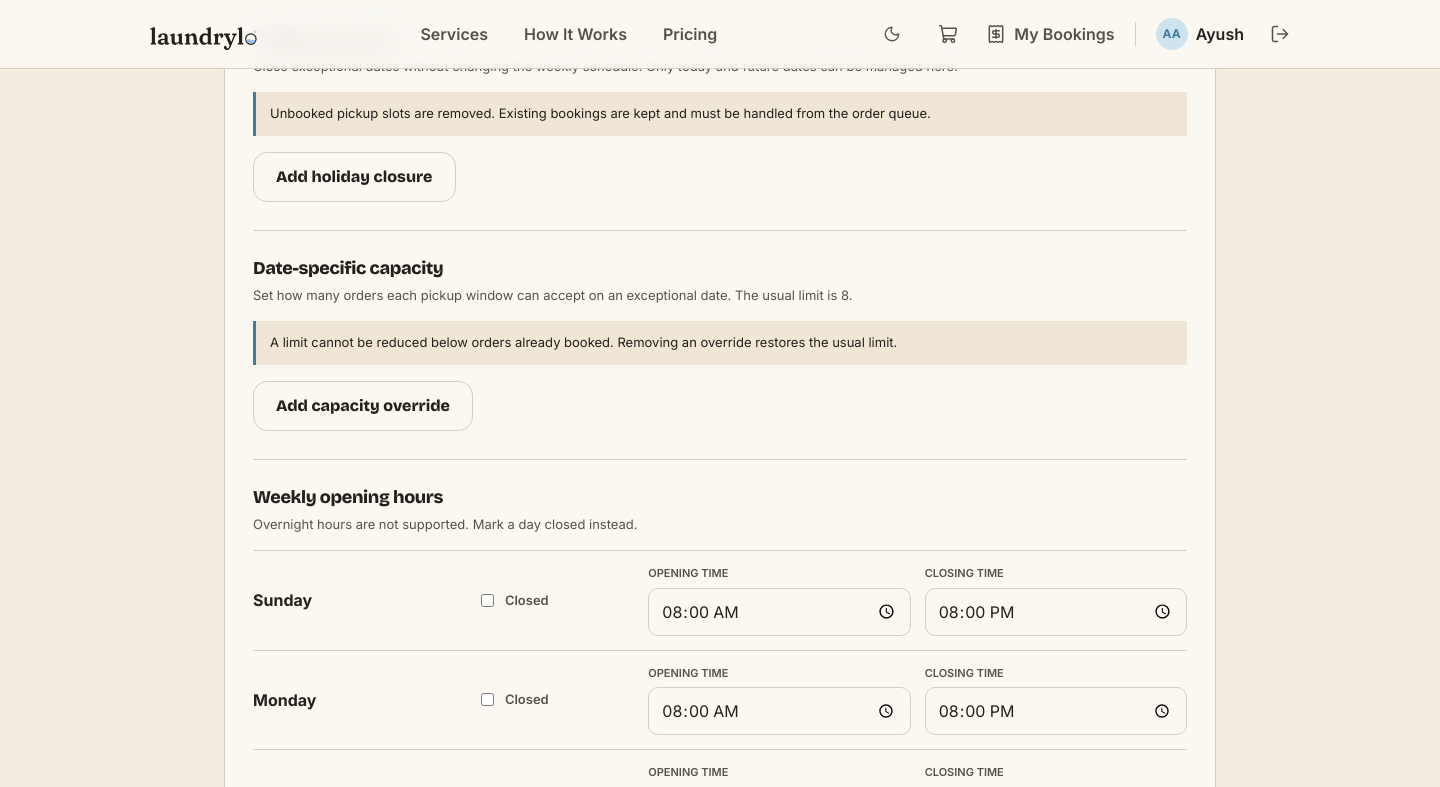
Test case: laundry-partner settings › lets an owner remove a date-specific capacity before saving
(page scrolled)
Click the button "Add capacity override" at (363, 406), box [253, 380, 473, 430]
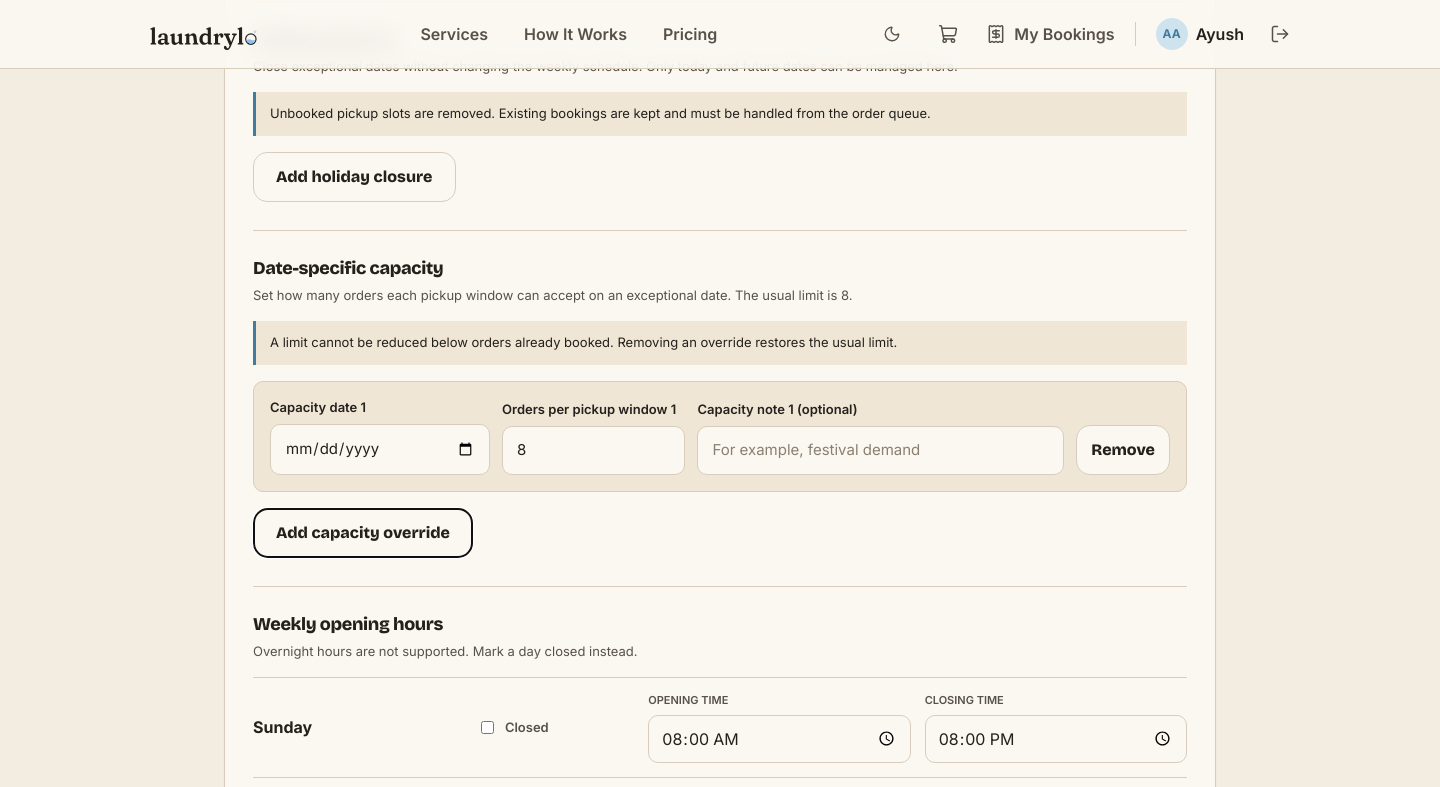
Type "2099-12-26" into the date field labelled "Capacity date 1" at (380, 449), box [270, 424, 490, 474]
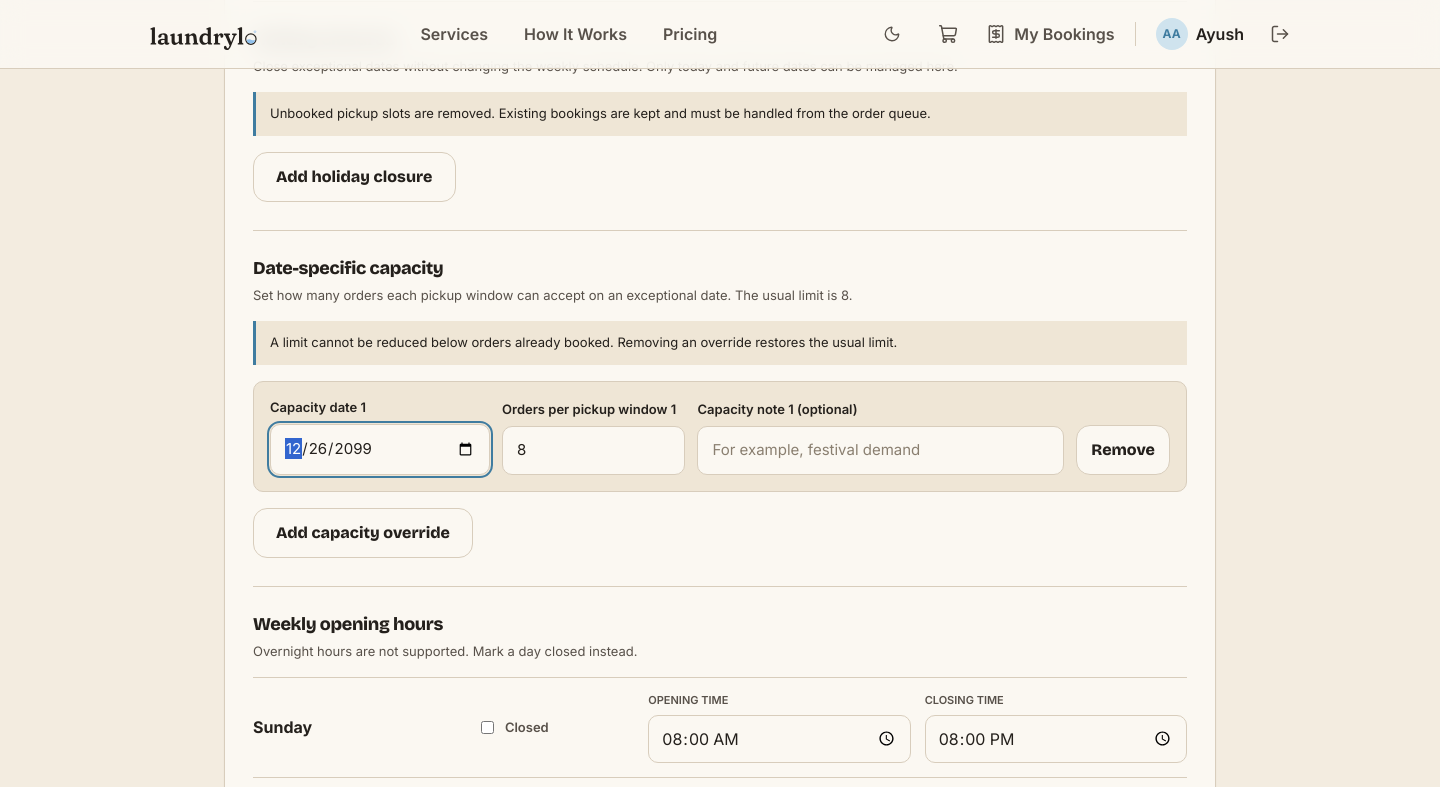
Click the button with aria-label "Remove capacity override 1" at (1123, 450), box [1076, 424, 1170, 474]
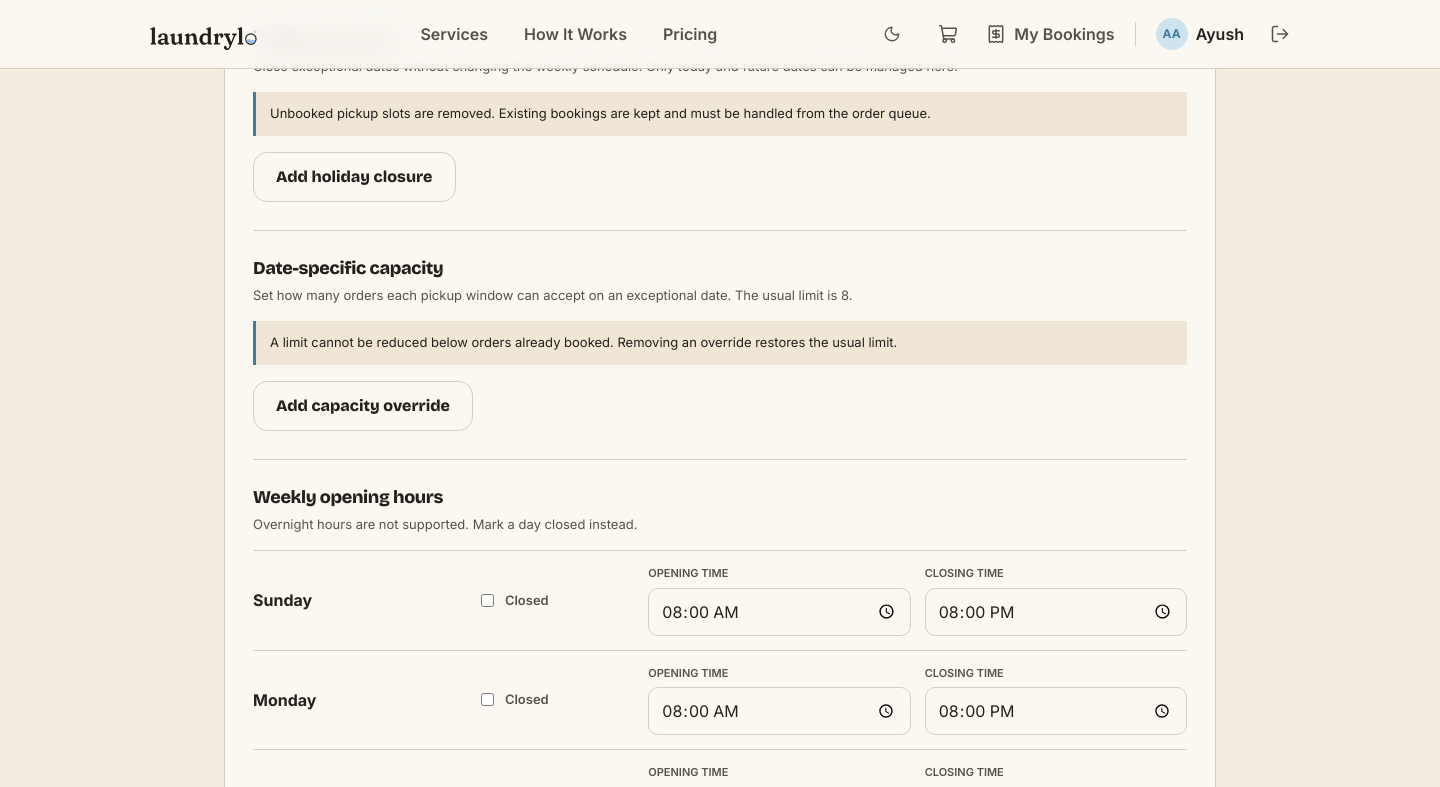
expect the label labelled "Capacity date 1" is gone: met
